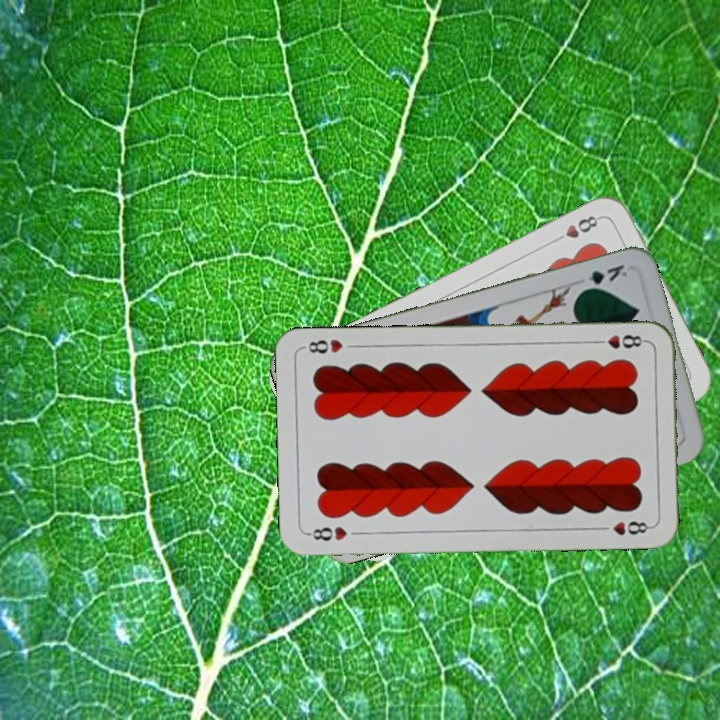GK: (573, 260, 630, 294)
H8: (549, 211, 604, 246), (590, 331, 649, 351), (304, 522, 350, 543)
